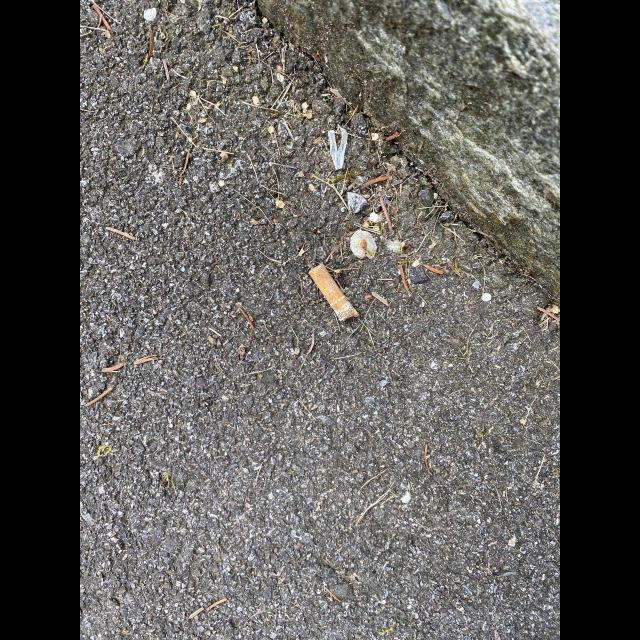cigarette: (308, 263, 360, 322)
